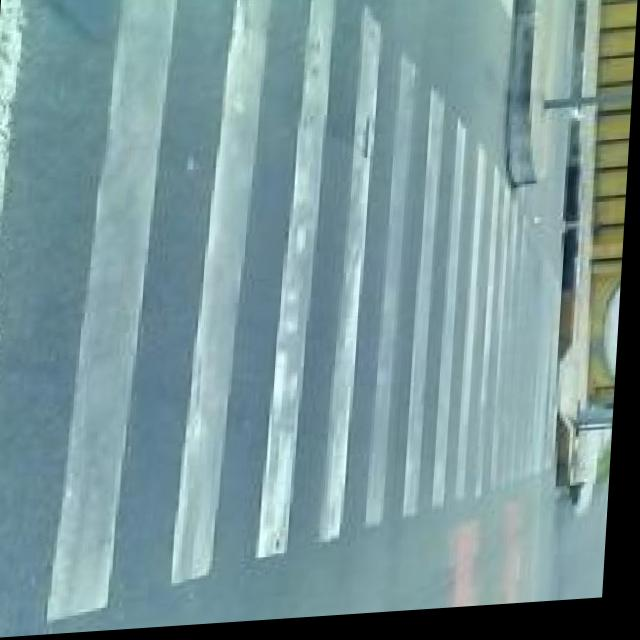zebra: (0, 192, 545, 532)
